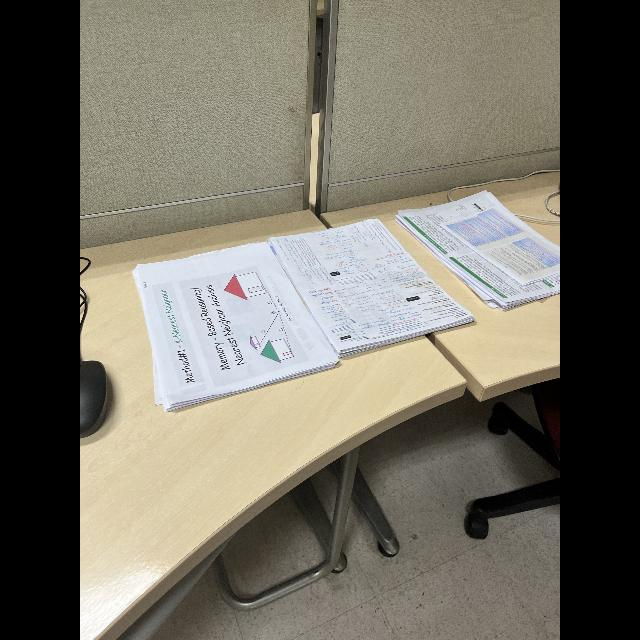reuseable_paper: (131, 215, 475, 422), (384, 184, 560, 312)
